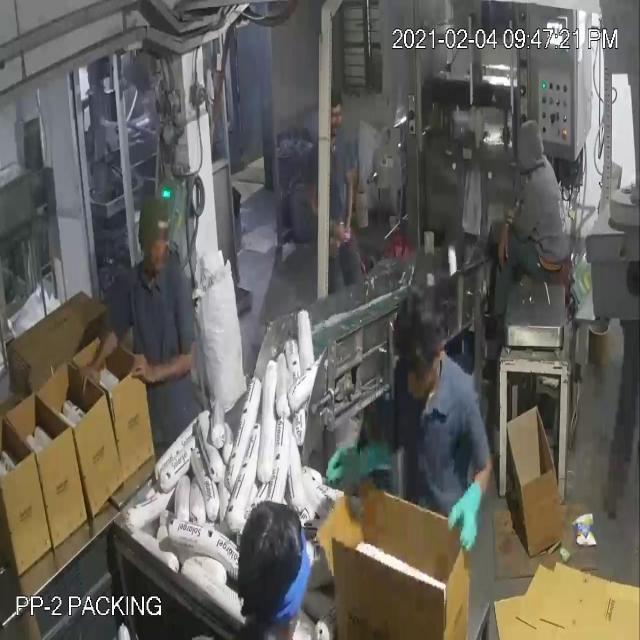No_Gloves: (18, 51, 505, 510)
